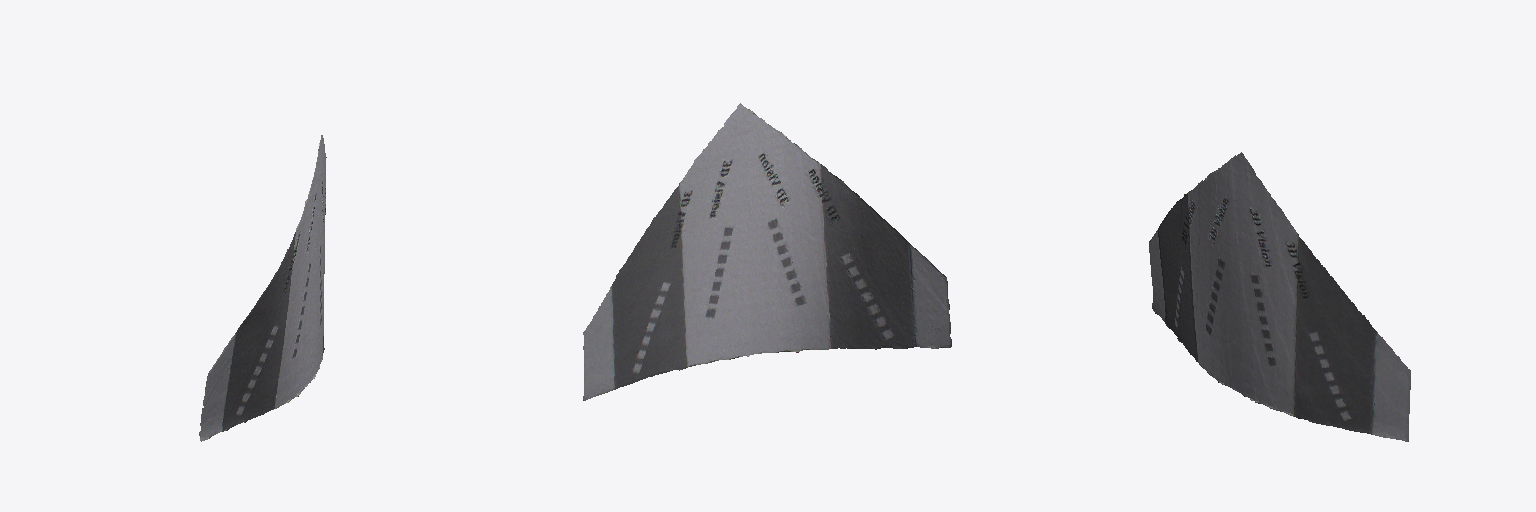
The picture shows the model from 3 angles: view 1: azimuth 30°, elevation 25°; view 2: azimuth 150°, elevation 25°; view 3: azimuth 270°, elevation 25°; orthographic projection.
Bounding box in the file's own units: 206 × 208 × 194.
1 materials, 1 textured.